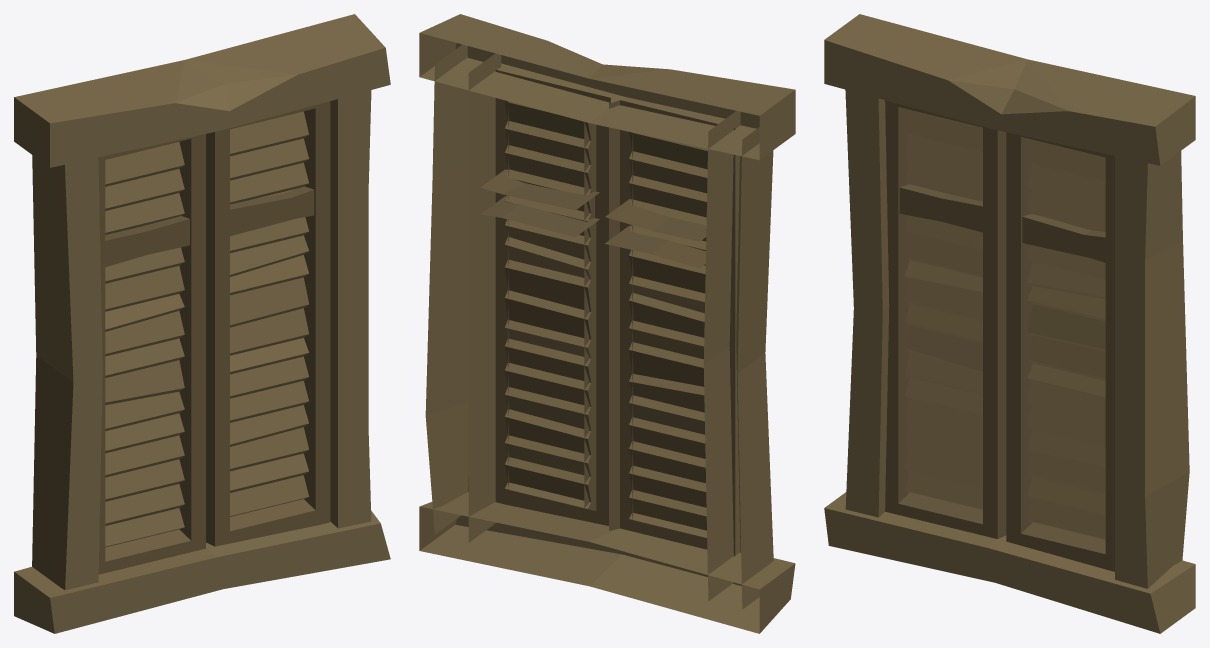
Rendered from Window_3.fbx.
The picture shows the model from 3 angles, left to right: view 1: azimuth 30°, elevation 25°; view 2: azimuth 150°, elevation 25°; view 3: azimuth 330°, elevation 25°; orthographic projection.
Parts seen in each view (by area): view 1: Window_3; view 2: Window_3; view 3: Window_3.
Part boxes in pixels (x1,y1,x2,y2): Window_3: (14,14,390,633); Window_3: (419,14,795,633); Window_3: (824,14,1195,633).
Size of the model in its own units: 118 by 172 by 21.61.
